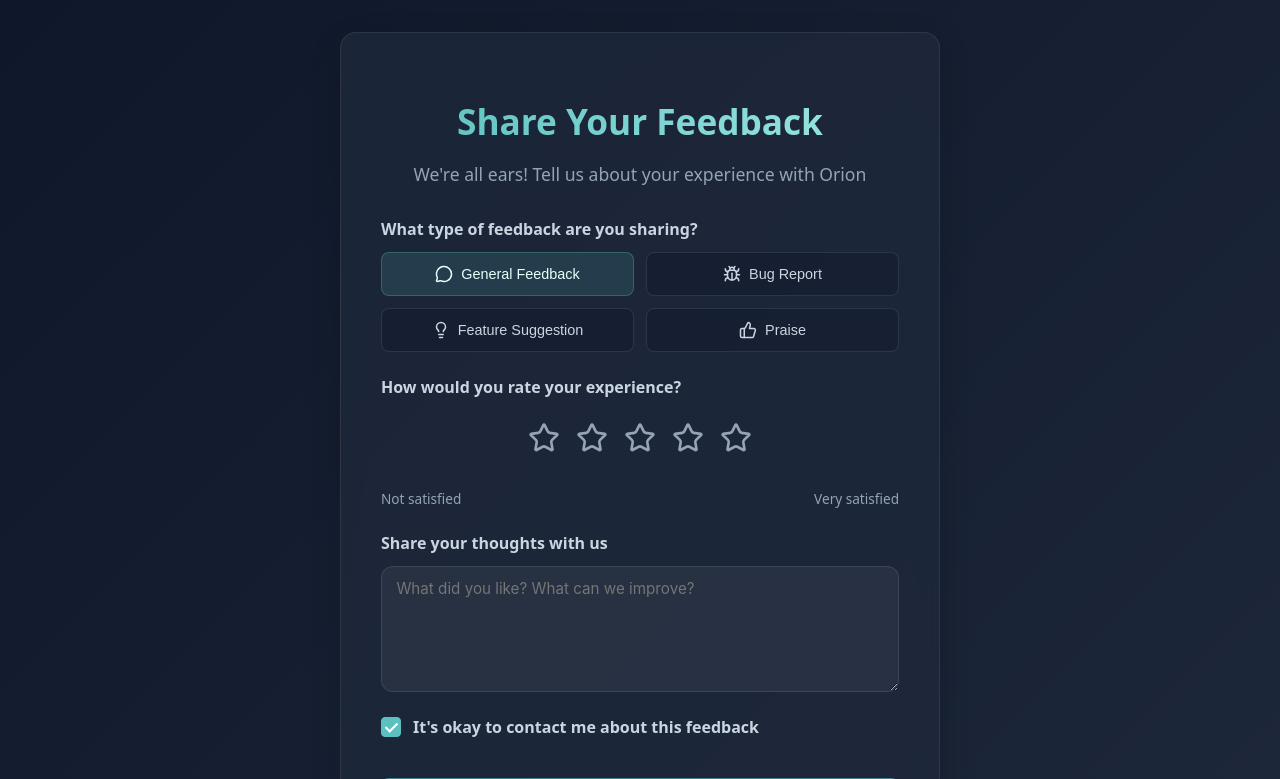
Feedback Component › Feedback Type Selection › switches to feature suggestion type
The width and height of the screenshot is (1280, 779).
Click the button "Feature Suggestion".
click(508, 330)  # box [381,308,634,352]
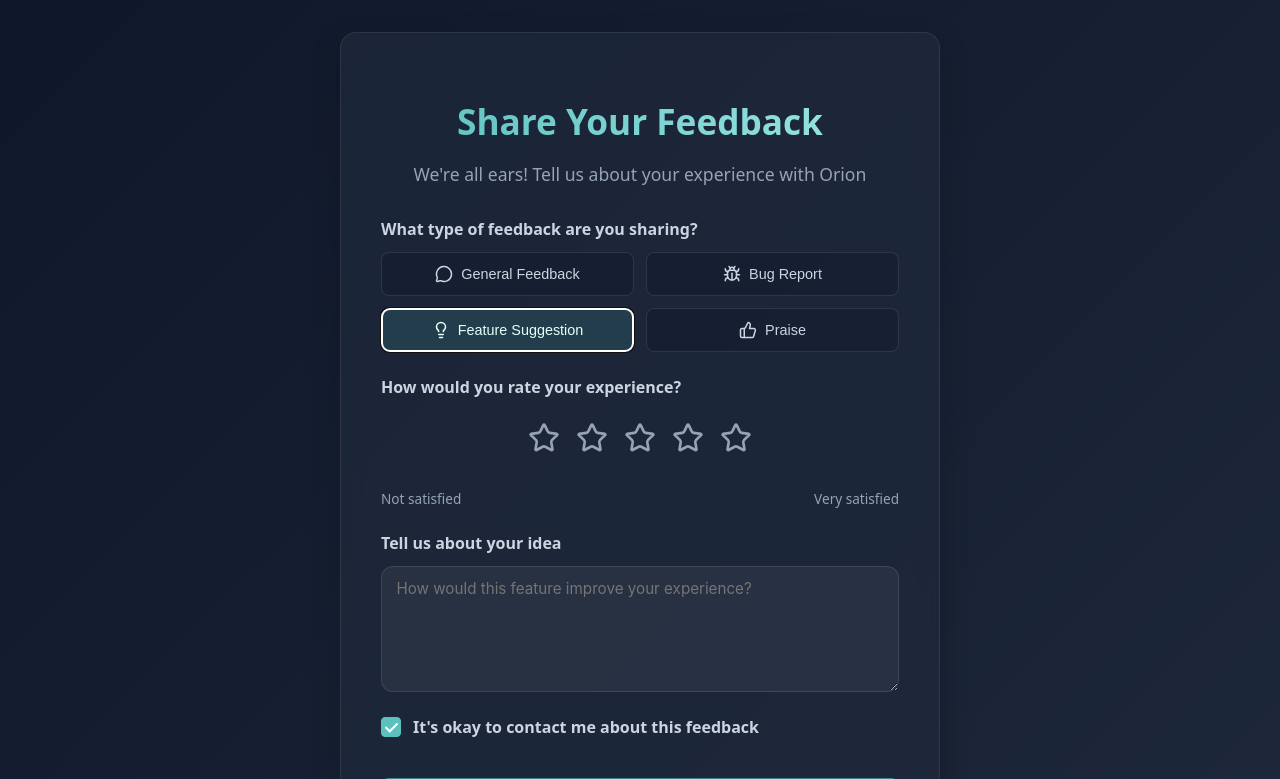
Check: the text "Tell us about your idea" is shown, box [381,532,562,554]
Check: the text box with placeholder "How would this feature improve your experience?" is shown, box [381,566,899,692]
